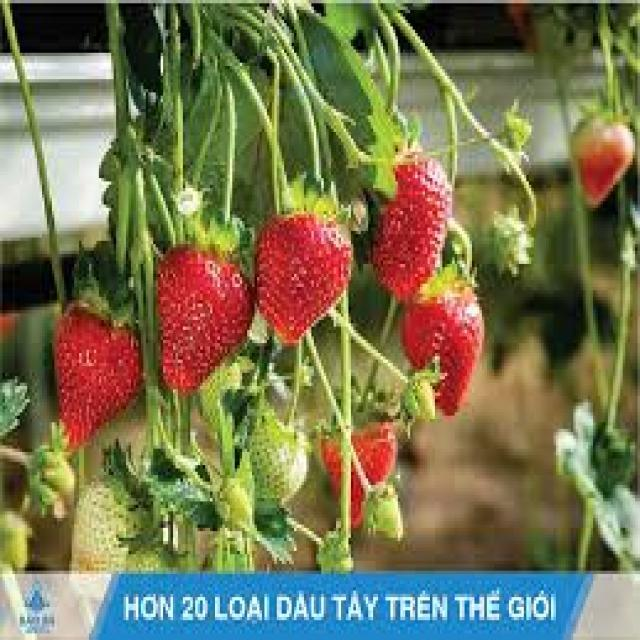Fruta sana: (154, 242, 256, 392), (386, 269, 488, 419), (255, 194, 354, 340), (366, 139, 448, 299), (51, 298, 140, 436), (321, 406, 398, 535), (576, 109, 632, 200)
